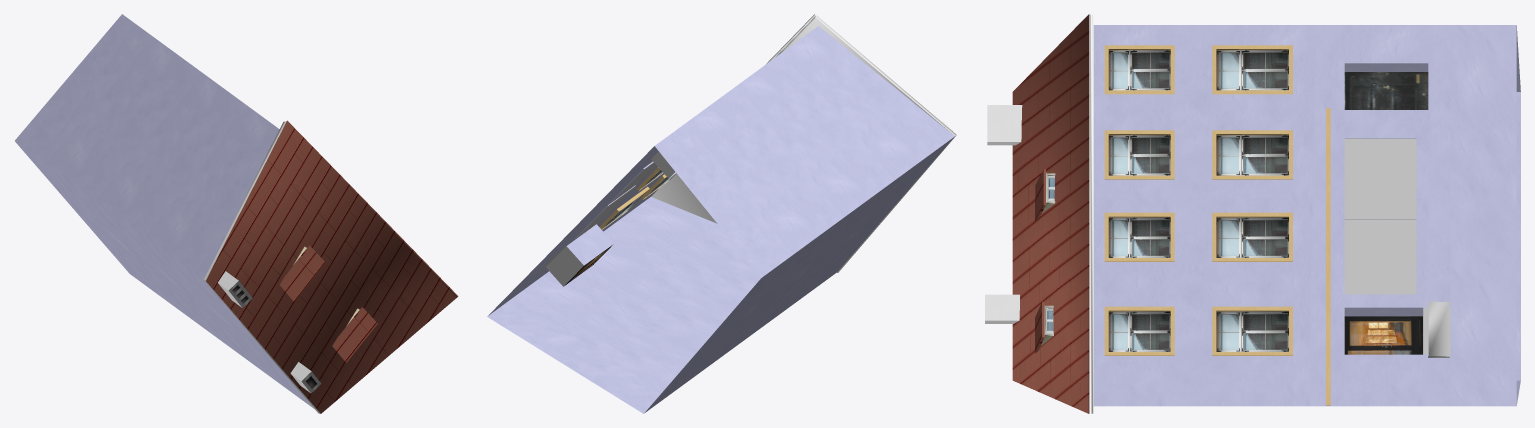
Rendered from Voorimehe_7.obj.
3 views of the same model, side by side, from view 1: azimuth 30°, elevation 25°; view 2: azimuth 150°, elevation 25°; view 3: azimuth 270°, elevation 25° (orthographic). The views are drawn at different scales.
Parts seen in each view (by area): view 1: Voorimehe_7; view 2: Voorimehe_7; view 3: Voorimehe_7.
Boxes of the visible parts, x1,y1,x2,y2 form: Voorimehe_7: (15,14,458,413); Voorimehe_7: (487,14,956,413); Voorimehe_7: (985,14,1520,413).
Size of the model in its own units: 13.11 by 12.21 by 16.27.
